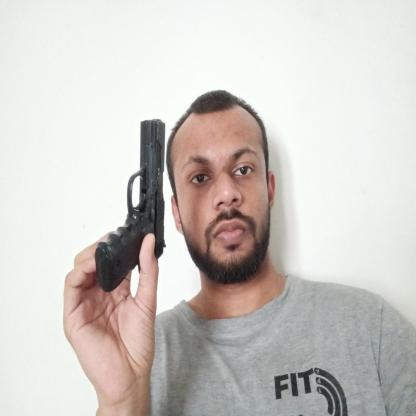handgun: (95, 117, 166, 294)
